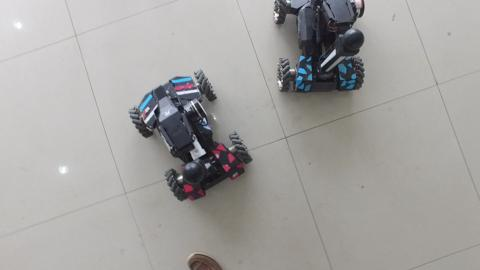chariot: (126, 67, 256, 213), (261, 1, 373, 99)
